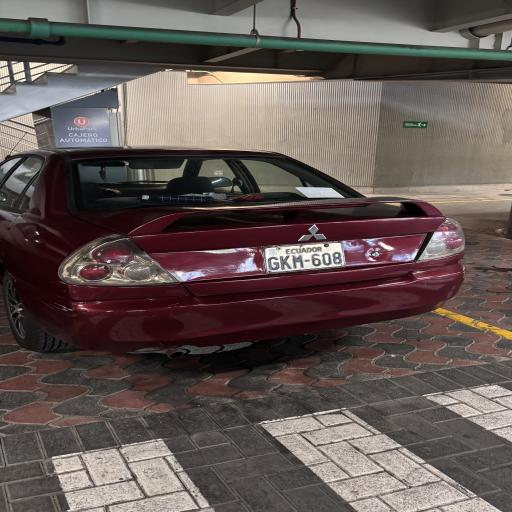license_plate: (264, 243, 344, 273)
